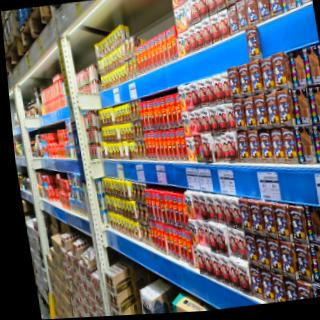Juice: (183, 189, 196, 219), (172, 5, 184, 35), (180, 110, 192, 138), (176, 83, 187, 111), (176, 30, 187, 58), (195, 221, 207, 246), (191, 193, 202, 219), (178, 2, 188, 29), (188, 218, 199, 242), (185, 137, 195, 160), (169, 0, 179, 7), (175, 0, 183, 5)
beverage: (134, 98, 144, 119), (136, 119, 144, 143), (130, 98, 138, 120), (134, 120, 141, 140), (131, 120, 138, 140), (137, 141, 144, 160), (133, 140, 140, 159), (127, 101, 134, 120), (141, 141, 146, 159)
